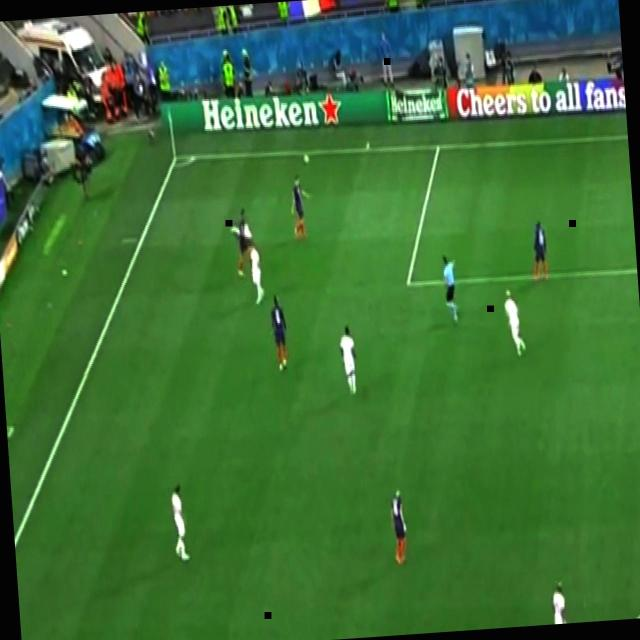player-white: (333, 320, 363, 402), (226, 202, 256, 281), (286, 170, 316, 248), (385, 480, 411, 568), (500, 282, 528, 362), (168, 480, 195, 562), (267, 291, 292, 377), (526, 214, 552, 284), (438, 250, 463, 322), (244, 235, 268, 309), (544, 573, 576, 625)
